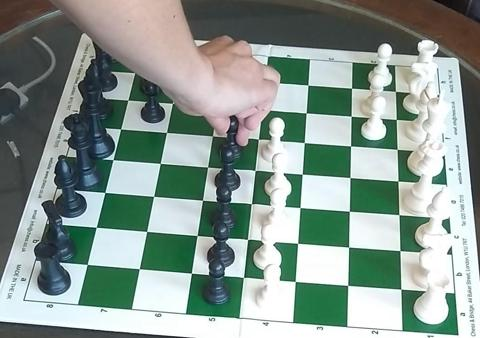xcorner: (80, 258, 93, 271), (236, 270, 249, 283), (341, 278, 354, 291), (394, 282, 407, 295), (89, 221, 102, 234), (139, 225, 152, 238), (240, 232, 253, 245), (291, 236, 304, 249), (393, 243, 406, 256), (146, 190, 159, 203), (195, 193, 208, 206), (244, 197, 257, 210), (293, 200, 306, 213), (343, 204, 356, 217), (392, 207, 405, 220), (106, 154, 119, 167), (153, 157, 166, 170), (248, 164, 261, 177), (114, 123, 127, 136), (159, 126, 172, 139), (251, 133, 264, 146), (344, 139, 357, 152), (391, 142, 404, 155), (128, 67, 141, 80), (171, 70, 184, 83), (214, 73, 227, 86), (258, 76, 271, 89), (301, 79, 314, 92), (132, 262, 144, 275), (184, 266, 196, 279), (289, 274, 301, 287), (342, 240, 355, 252), (98, 187, 111, 199), (200, 161, 213, 173), (296, 167, 308, 180), (343, 171, 356, 183), (392, 174, 404, 187), (205, 130, 218, 142), (298, 136, 310, 149), (121, 95, 134, 107), (165, 98, 178, 110), (210, 101, 223, 113), (390, 113, 403, 125), (345, 82, 358, 94), (389, 85, 402, 97), (190, 229, 202, 241), (255, 104, 267, 116), (300, 107, 312, 119), (345, 110, 357, 122)
